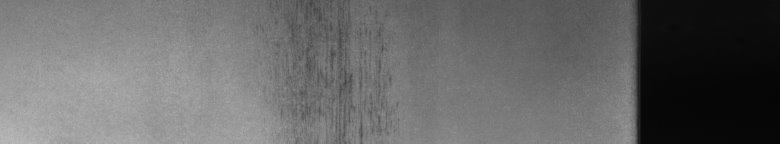ka: (284, 8, 384, 136)
